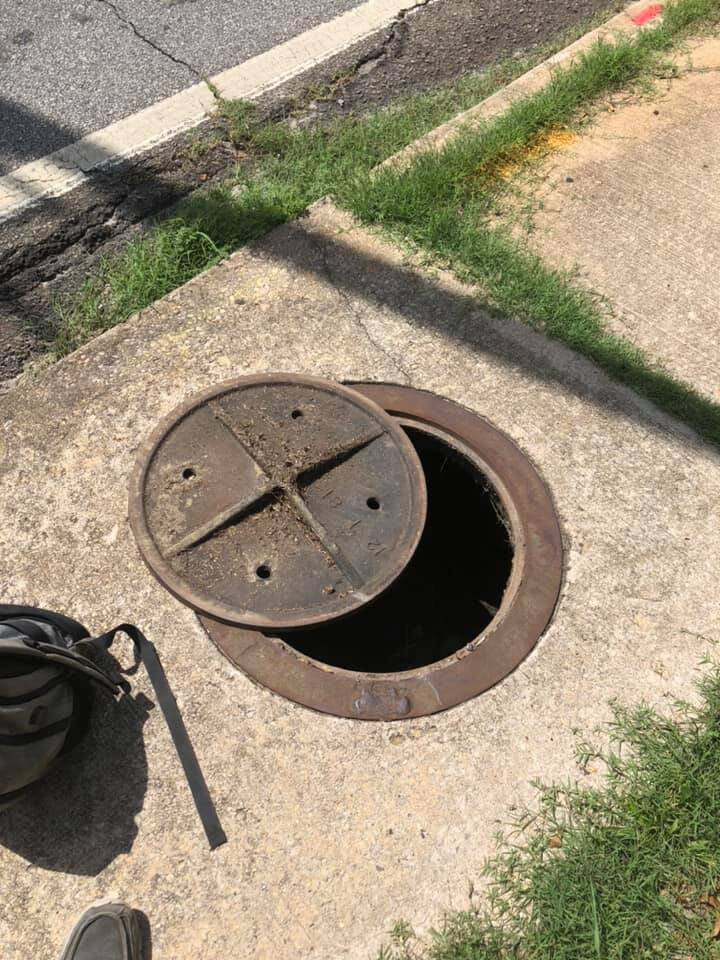open_manhole: (308, 446, 557, 668)
